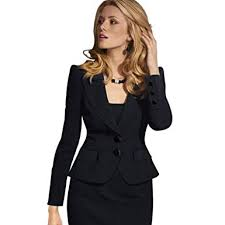F_W_suit jacket: (46, 61, 174, 210)
F_tailored skirt: (65, 166, 155, 225)
